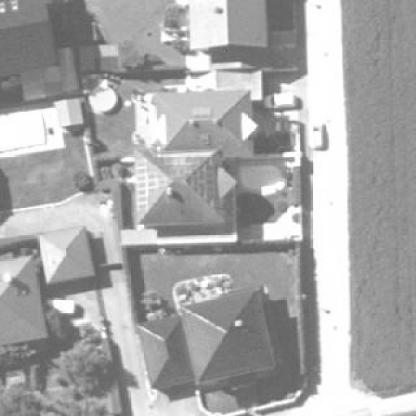solar-pv-panel: (137, 158, 168, 209), (191, 158, 223, 207), (191, 107, 211, 115), (171, 155, 184, 166)
